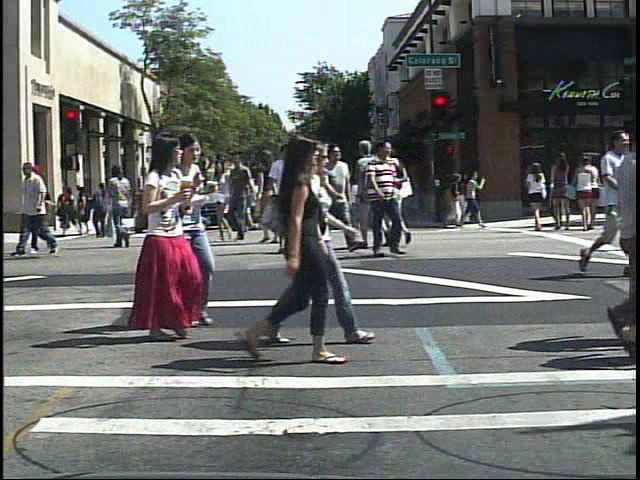person: (249, 131, 354, 368), (117, 130, 196, 343), (274, 135, 347, 349), (596, 108, 639, 355), (174, 133, 218, 329), (572, 127, 628, 280), (365, 137, 413, 260), (339, 138, 385, 258), (359, 136, 400, 252), (269, 139, 307, 258), (259, 144, 296, 248), (140, 158, 180, 252), (292, 147, 324, 248), (105, 160, 141, 248), (524, 155, 553, 236), (263, 165, 284, 234), (391, 140, 403, 251), (60, 183, 80, 233)
